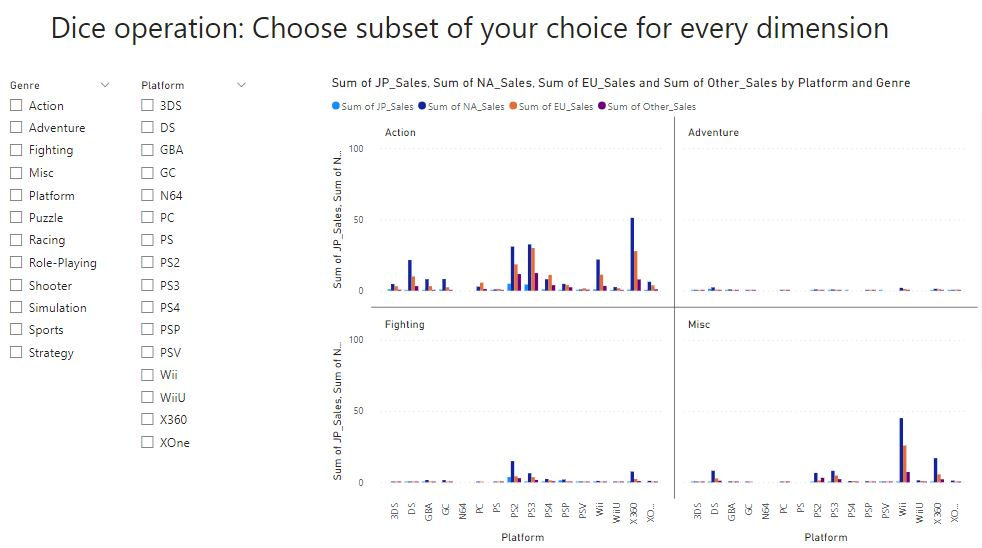

What the dashboard file says about the page in this screenshot:
{"tool":"powerbi","page":{"name":"Dice","canvas":[1280,720],"ordinal":1},"visuals":[{"type":"clusteredColumnChart","fields":{"Category":["Sheet1.Platform"],"Y":["Sum(Sheet1.JP_Sales)","Sum(Sheet1.NA_Sales)","Sum(Sheet1.EU_Sales)","Sum(Sheet1.Other_Sales)"],"Rows":["Sheet1.Genre"]},"box":[422.5,109.7,857.9,611.1],"z":0},{"type":"textbox","box":[59.7,17.7,1162.6,59.7],"z":1000},{"type":"slicer","fields":{"Values":["Sheet1.Genre"]},"box":[0,109.7,154.8,611.1],"z":1001},{"type":"slicer","fields":{"Values":["Sheet1.Platform"]},"box":[169.3,109.7,161.3,611.1],"z":1002}]}

Visuals, with their boxes on the page's 1280x720 design canvas (x1, y1, x2, y2). These are canvas units, not pixel positions in the 982x548 screenshot, which may show the page scaled, cropped or inside an application window:
clusteredColumnChart - Sheet1.Platform x Sum(Sheet1.JP_Sales): select_region(422, 110, 1280, 721)
textbox: select_region(60, 18, 1222, 77)
slicer - Sheet1.Genre: select_region(0, 110, 155, 721)
slicer - Sheet1.Platform: select_region(169, 110, 331, 721)
